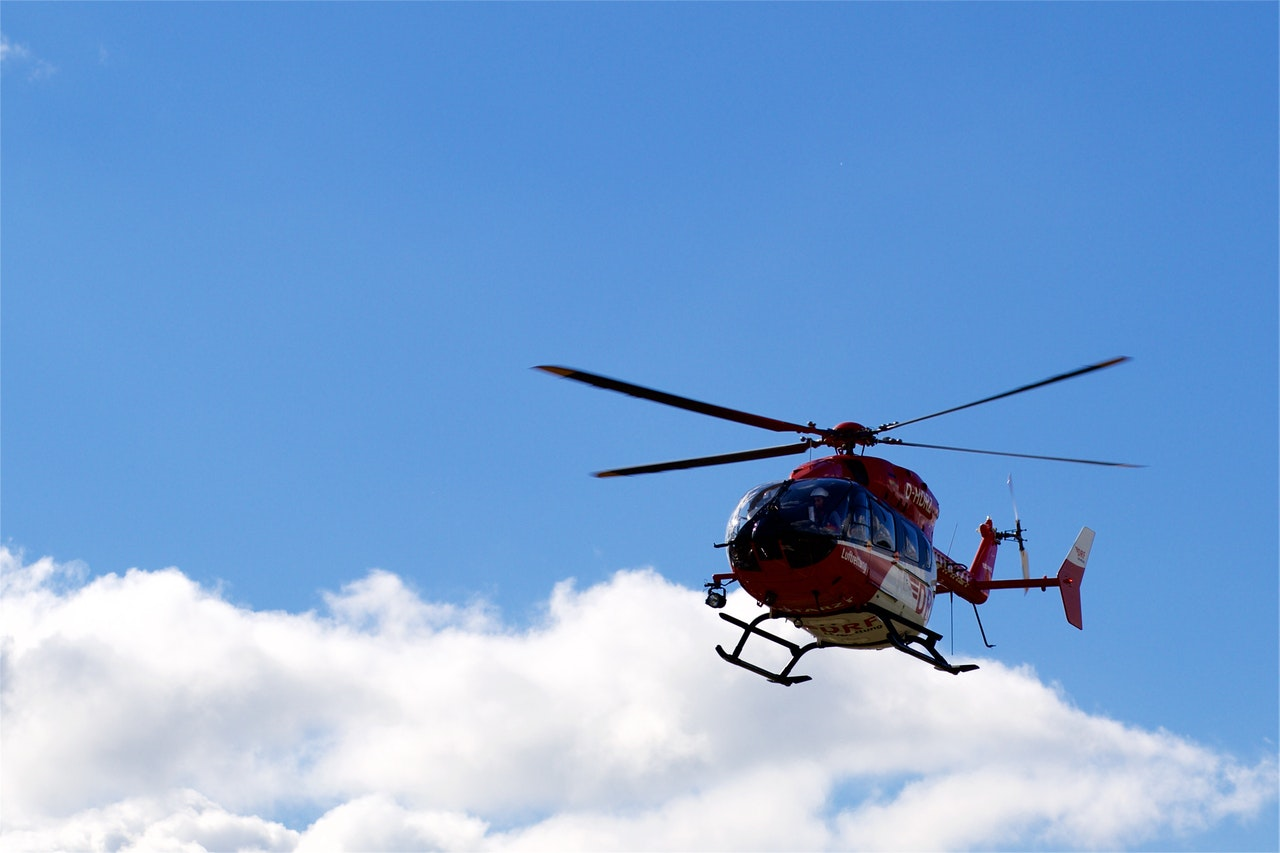heli: (530, 352, 1151, 687)
